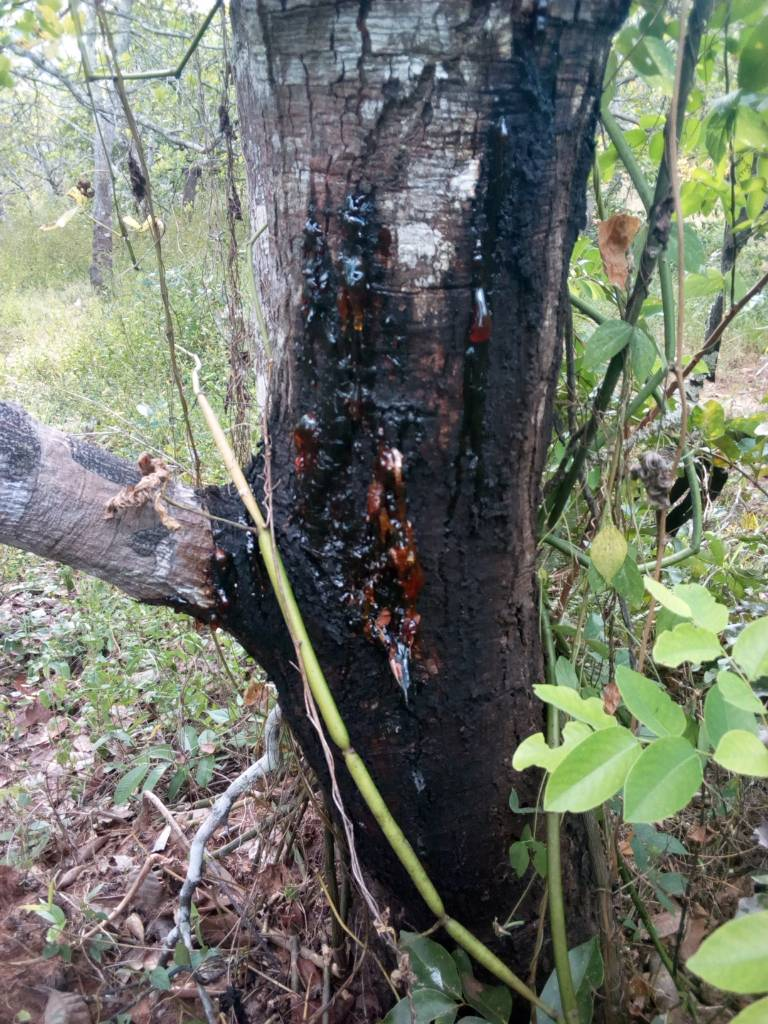Gommose: (302, 199, 466, 899), (477, 94, 510, 514), (210, 546, 266, 633)
